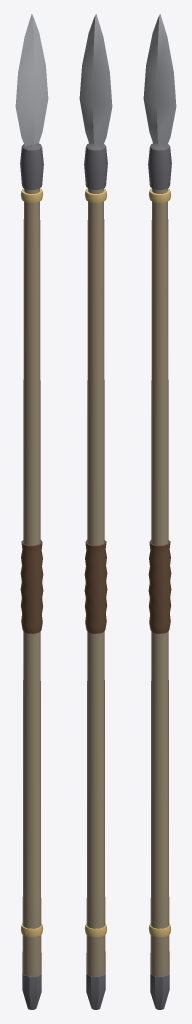
File: ash_spear.glb
The picture shows the model from 3 angles, left to right: view 1: azimuth 30°, elevation 25°; view 2: azimuth 150°, elevation 25°; view 3: azimuth 330°, elevation 25°; orthographic projection.
Parts seen in each view (by area): view 1: ash_spear; view 2: ash_spear; view 3: ash_spear.
Boxes of the visible parts, x1,y1,x2,y2 form: ash_spear: (15,14,48,1009); ash_spear: (79,14,112,1009); ash_spear: (143,14,176,1009).
Size of the model in its own units: 0.078 by 2.26 by 0.047.
